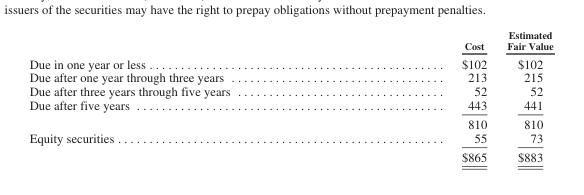table: (28, 29, 552, 163)
table column: (28, 29, 345, 163), (345, 29, 496, 163), (496, 29, 552, 163)
table column header: (28, 29, 552, 53)
table row: (28, 29, 552, 53), (28, 53, 552, 70), (28, 97, 552, 114), (28, 130, 552, 147), (28, 114, 552, 130), (28, 147, 552, 163), (28, 70, 552, 84), (28, 84, 552, 97)
